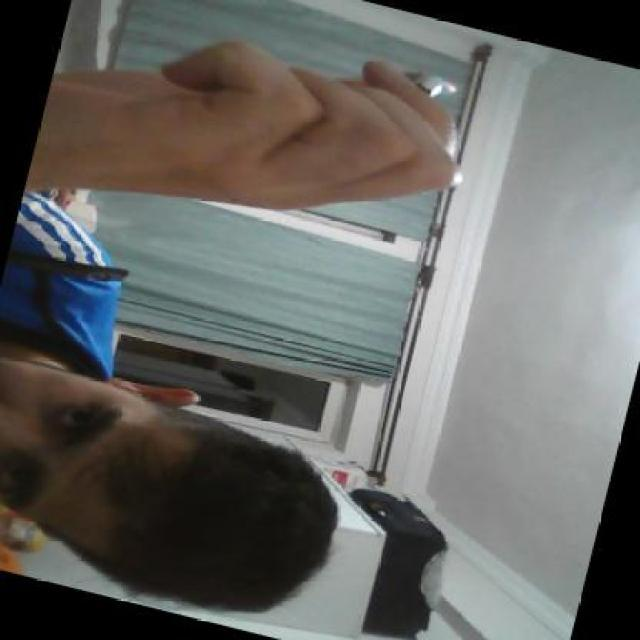Fire: (405, 54, 486, 101)
